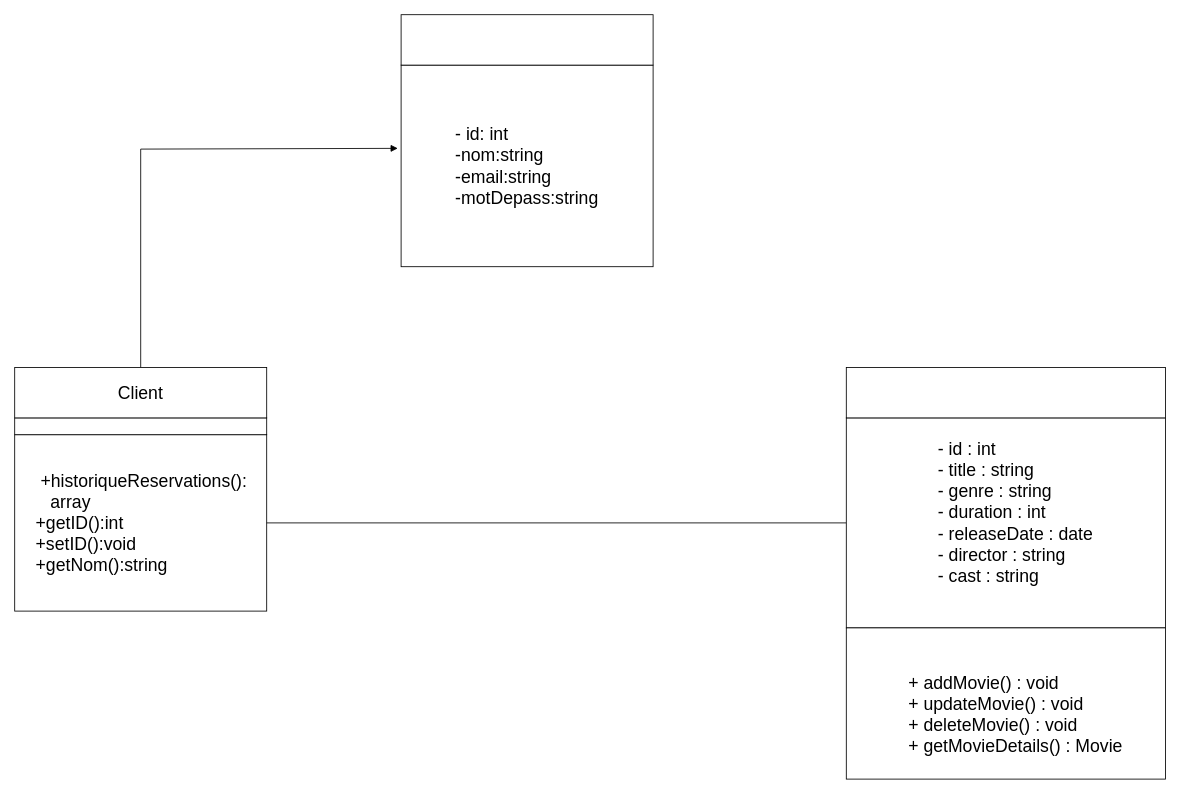
The diagram is 1180 pixels wide and 794 high, and some of its shapes have lost their labels. The shapes that lost their labels are listed below. From the top down, each one's box as (x1, y1, x2, y2) in pixels, then its label:
(400, 14, 653, 65): member
(845, 367, 1166, 418): Movies
